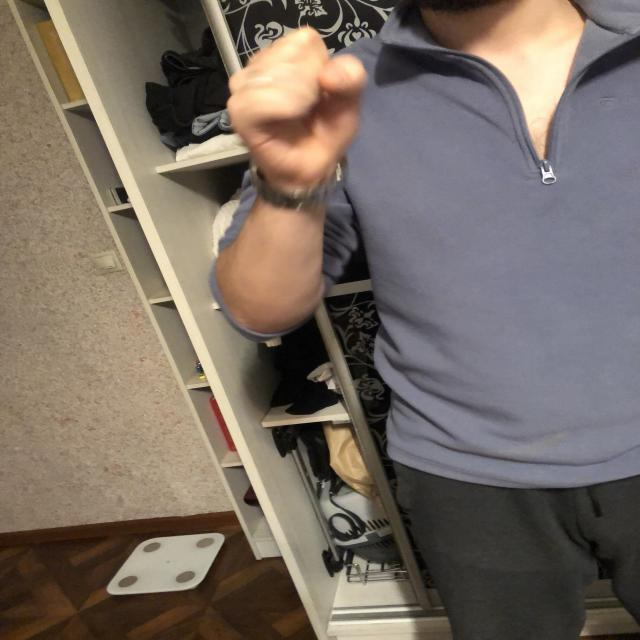rock: (233, 29, 365, 175)
